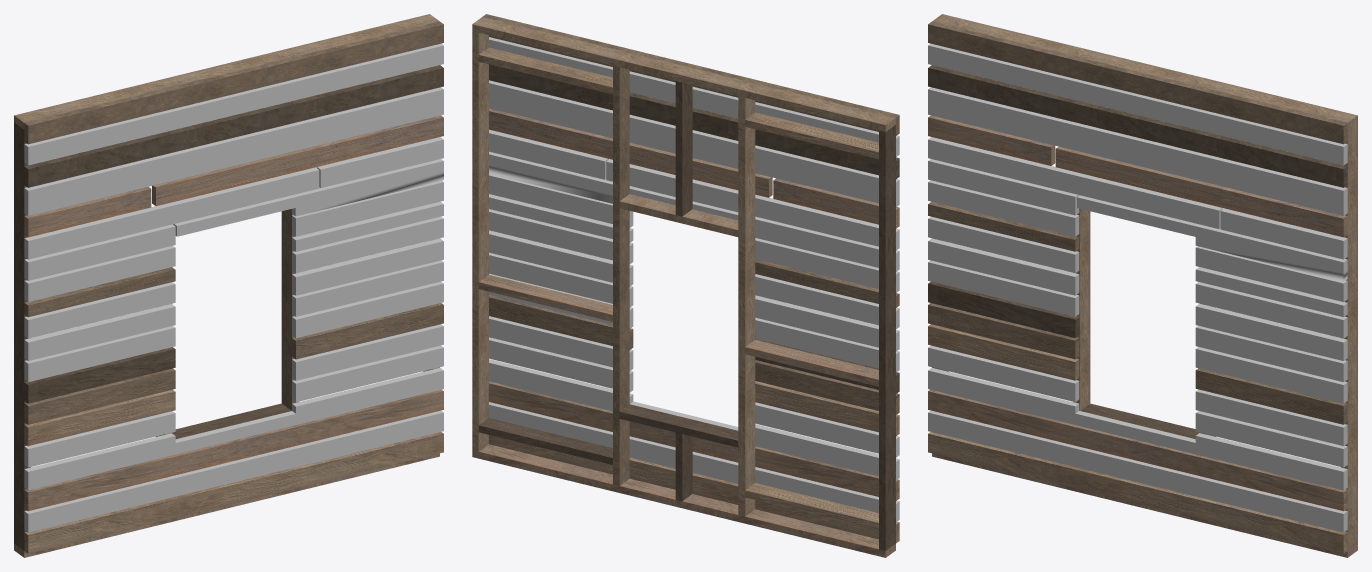
File: WallPeiceWindowB.fbx
3 views of the same model, side by side, from view 1: azimuth 30°, elevation 25°; view 2: azimuth 150°, elevation 25°; view 3: azimuth 330°, elevation 25° (orthographic).
Parts seen in each view (by area): view 1: WallPeiceWindowB; view 2: WallPeiceWindowB; view 3: WallPeiceWindowB.
Part boxes in pixels (left/top/right/bottom): WallPeiceWindowB: left=14, top=14, right=443, bottom=557; WallPeiceWindowB: left=472, top=14, right=899, bottom=557; WallPeiceWindowB: left=928, top=14, right=1357, bottom=557.
Bounding box in the file's own units: 374 × 374 × 22.
